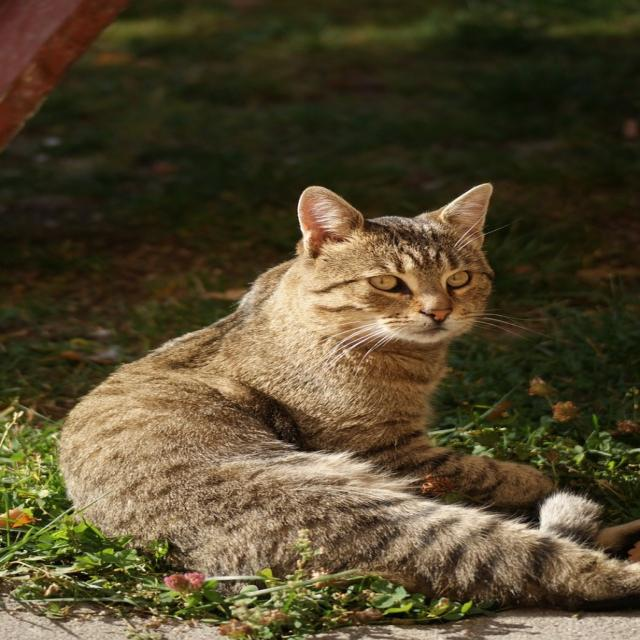Cat: (52, 182, 638, 612)
